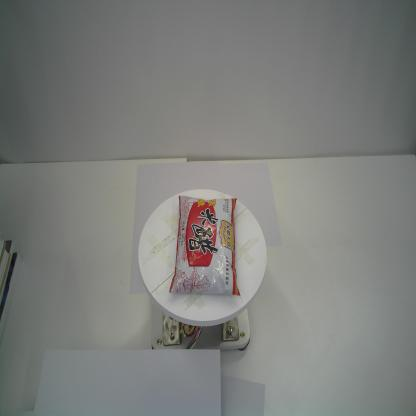Seasoner: (169, 195, 241, 297)
